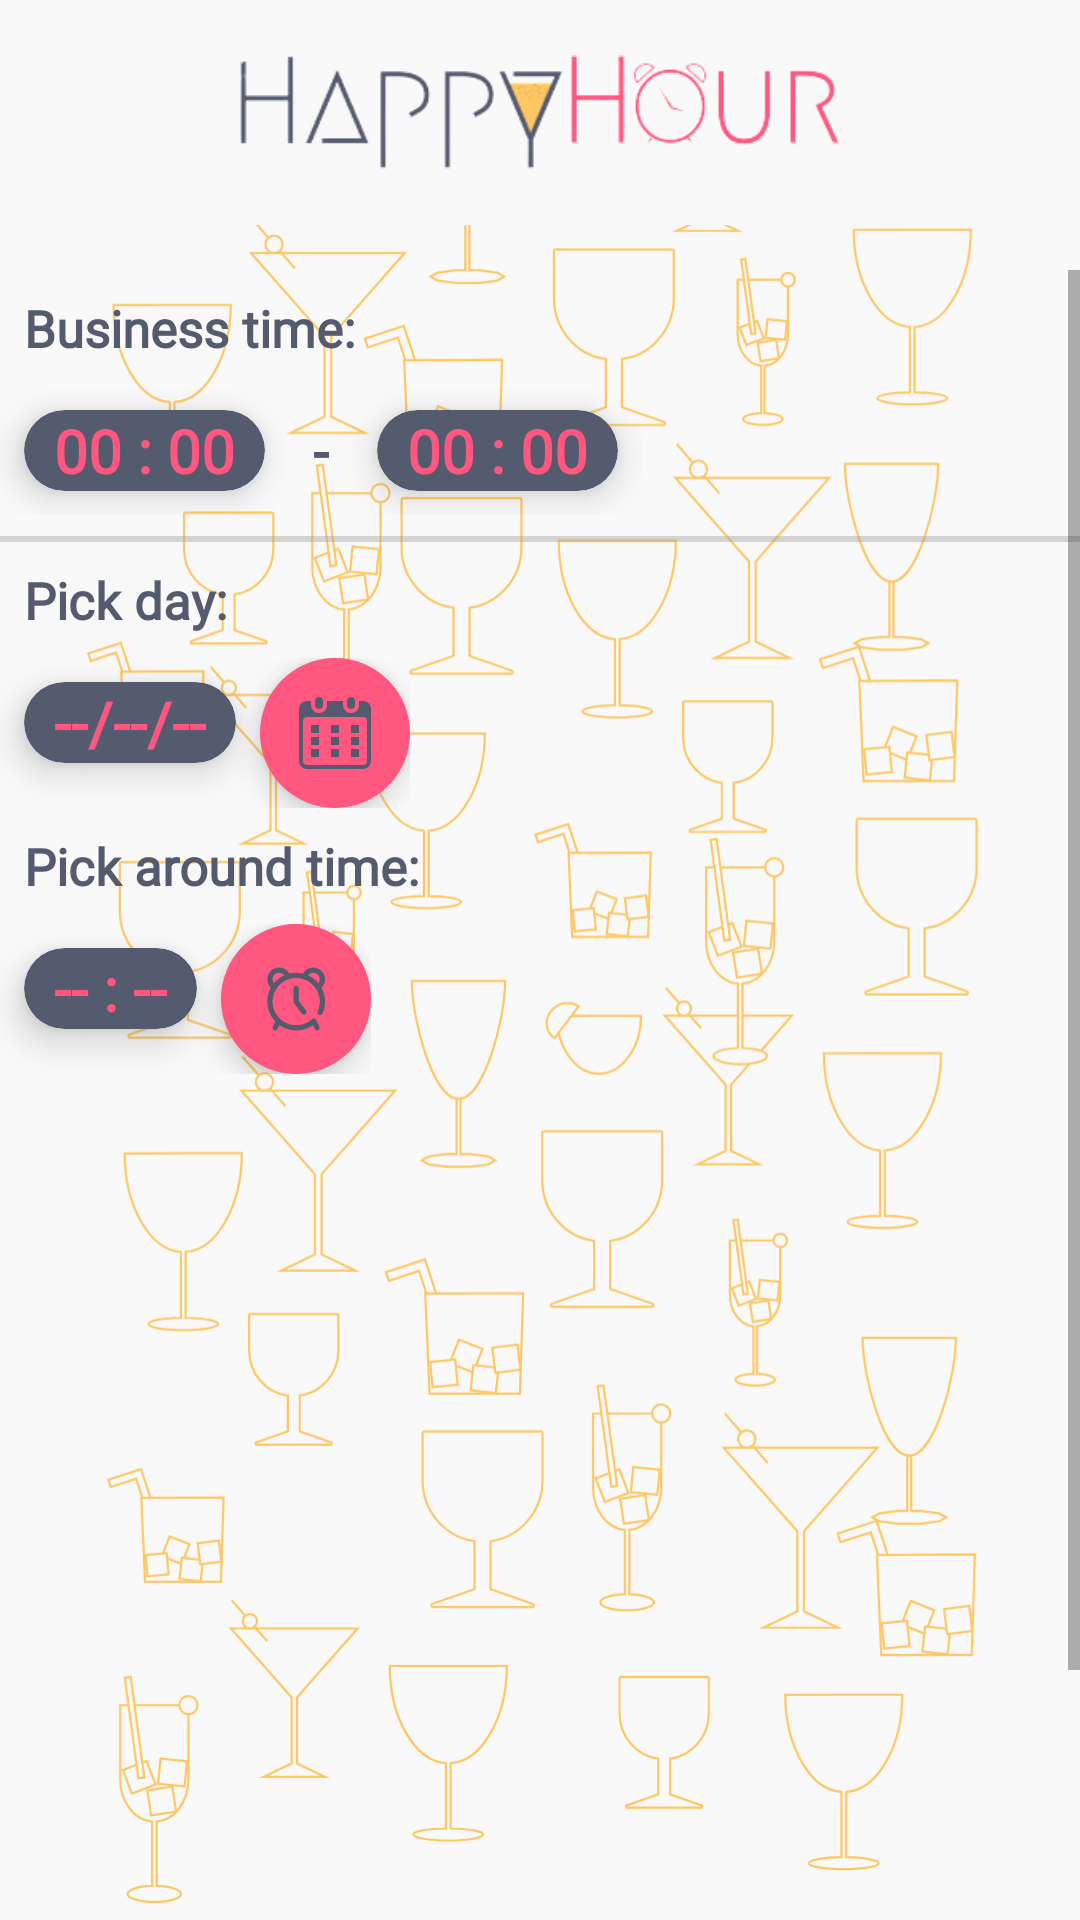

Icon bounding boxes for this 1080px x 1920px phone screenshot, format (x1, y1, x2, y2):
date: (260, 658, 410, 808)
